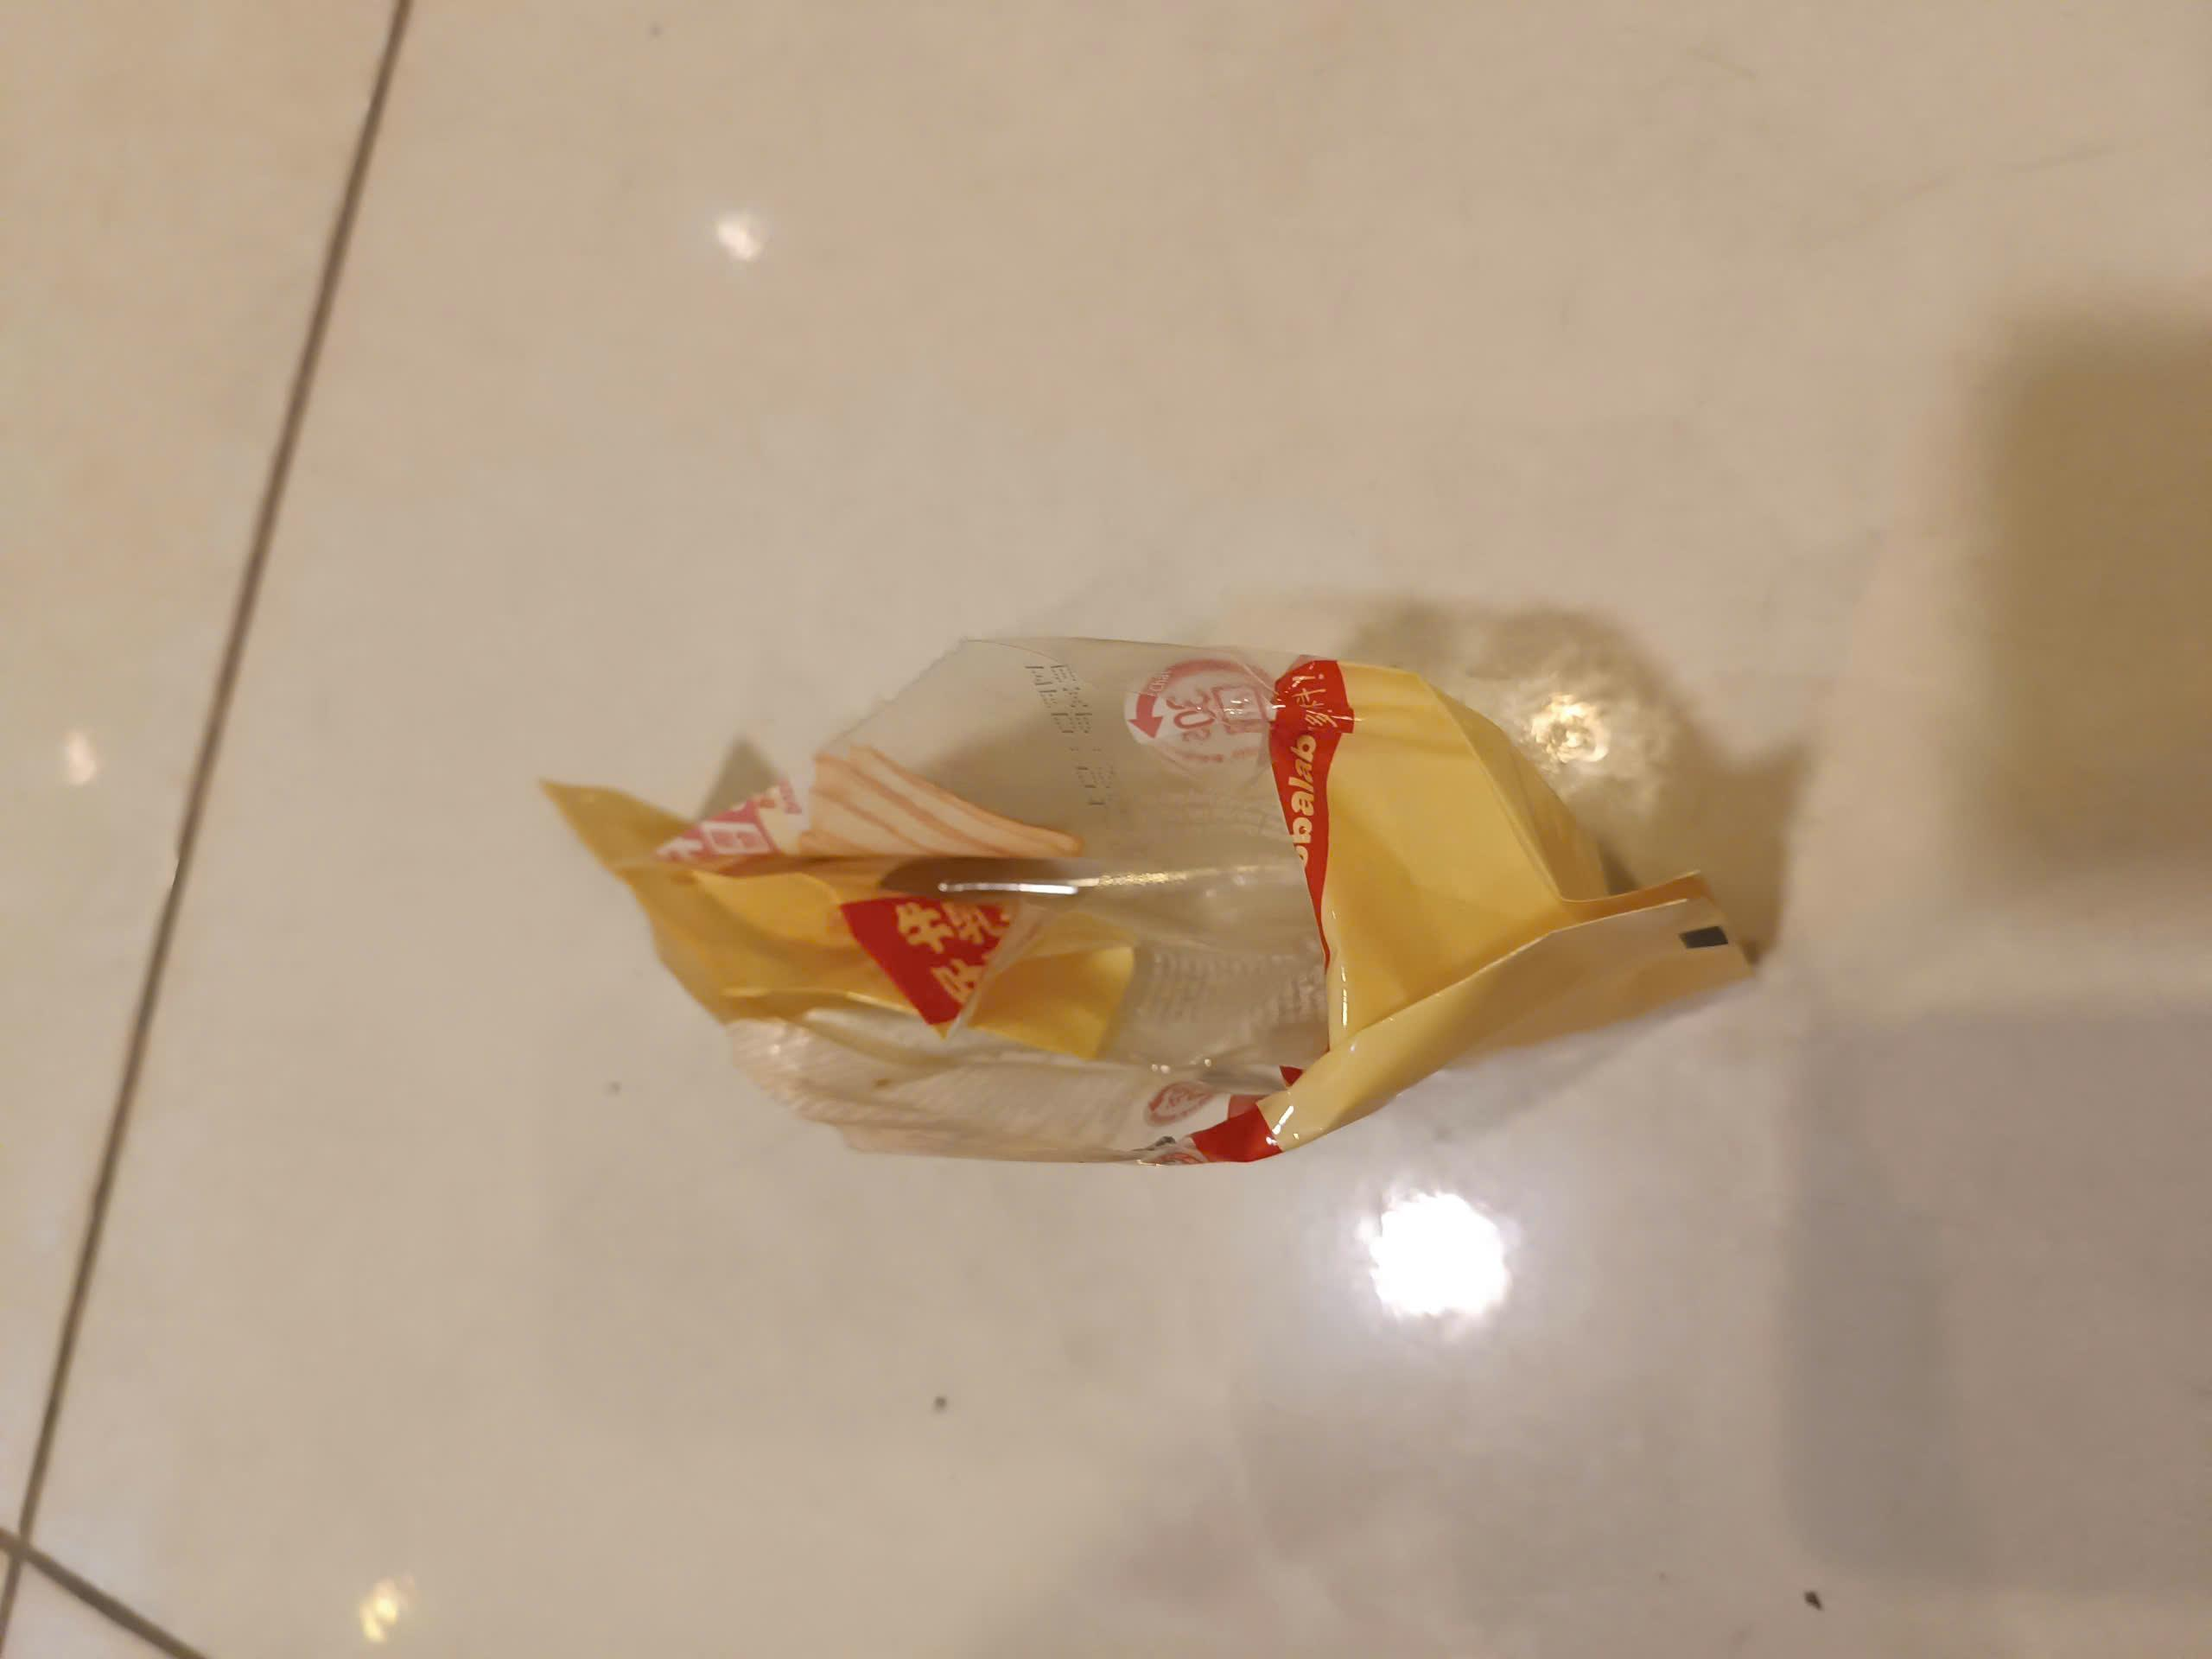Vo co: (529, 634, 1764, 1168)
